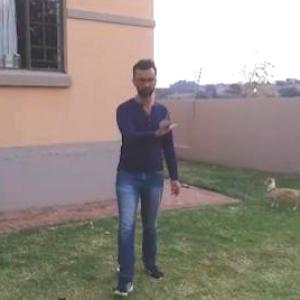land_hand: (156, 105, 183, 139)
